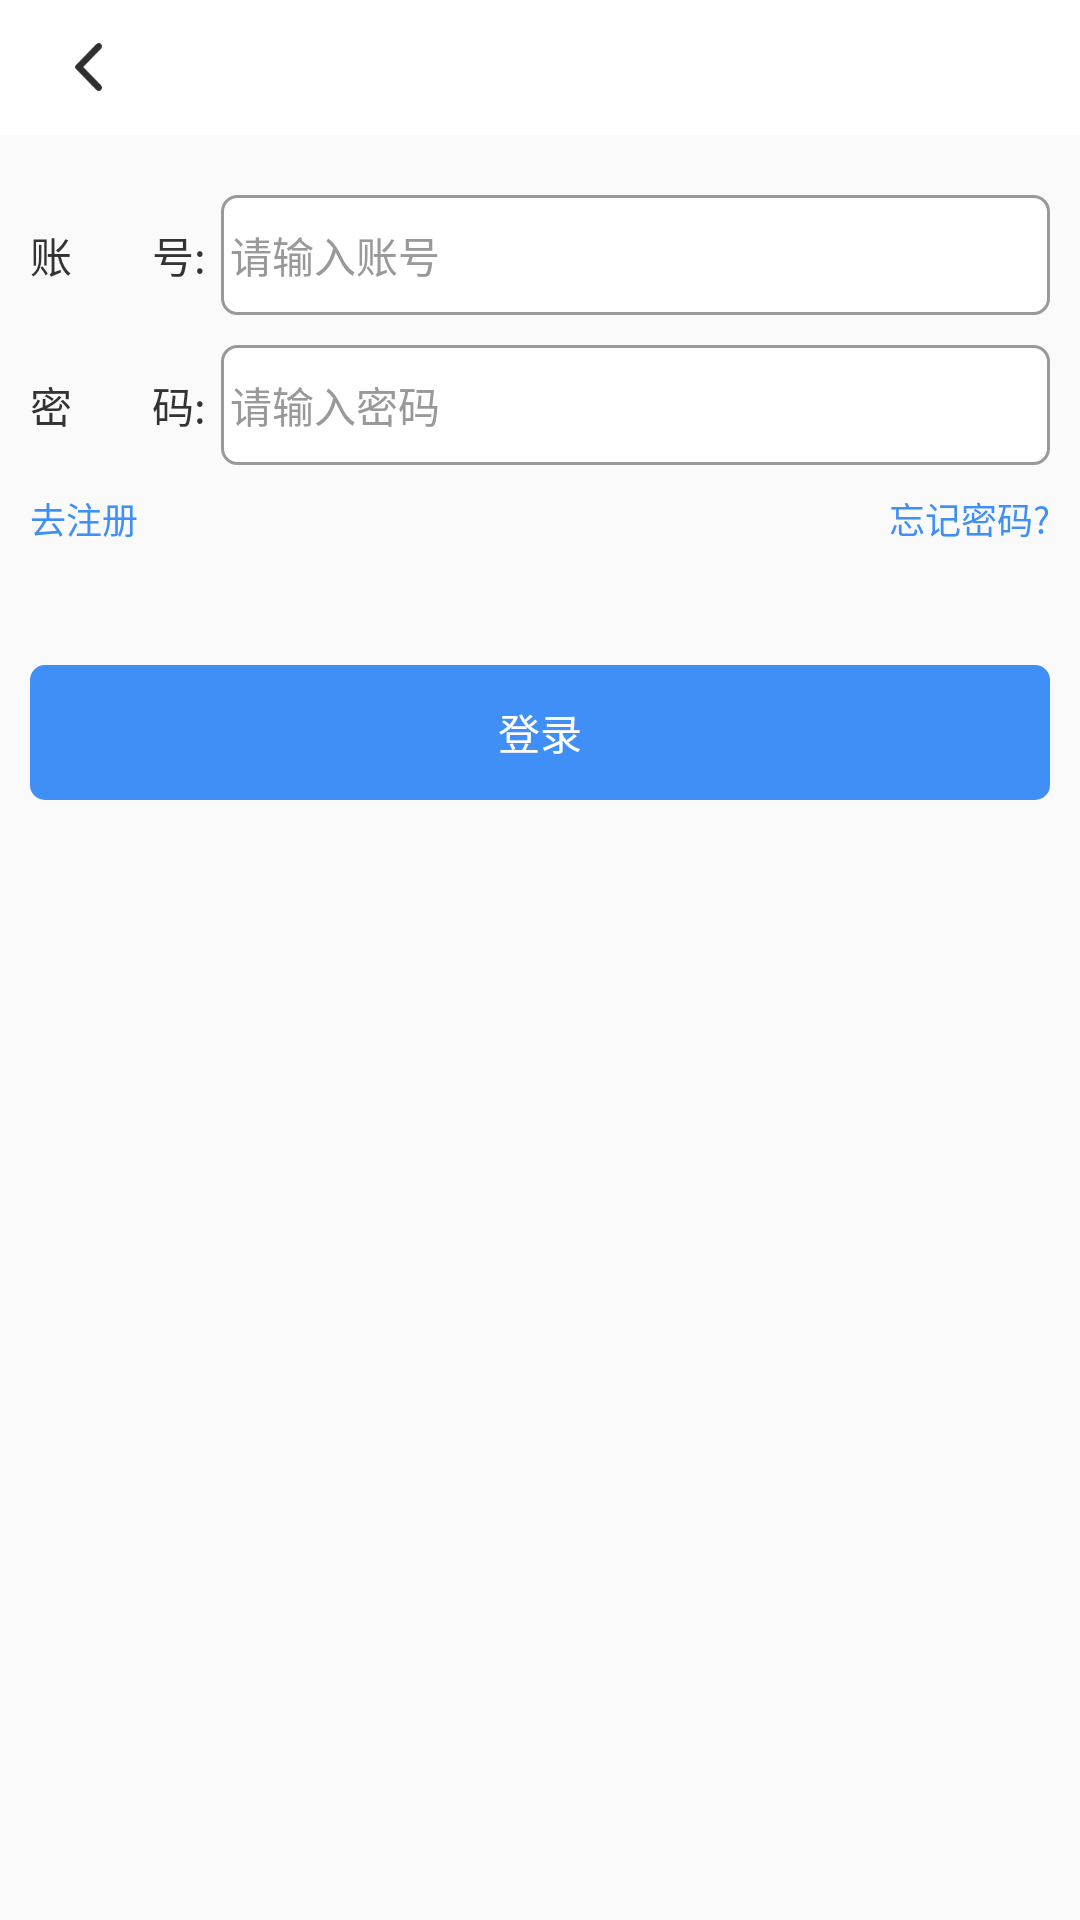

Screen size 1080px x 1920px. Icon name, then its box in pixels as box=[x1, y1, x2, y2]:
back: box=[75, 43, 102, 91]
